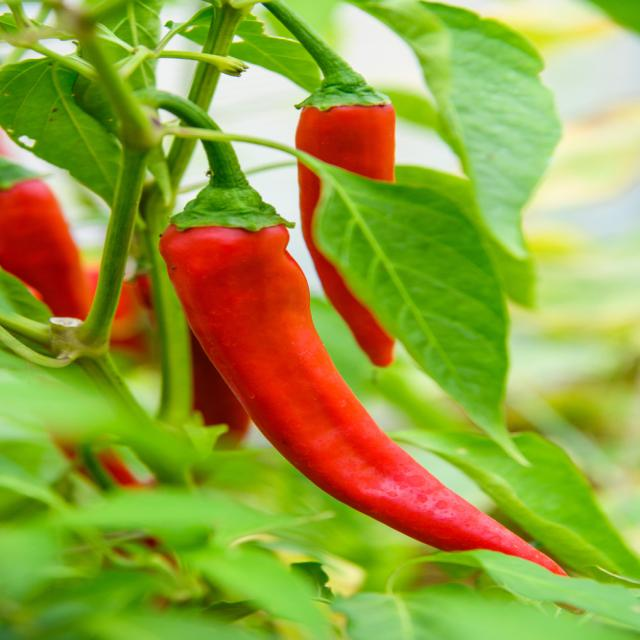Ripe: (159, 225, 564, 574), (298, 161, 393, 365), (298, 161, 393, 365), (0, 179, 92, 318), (296, 103, 394, 181)
